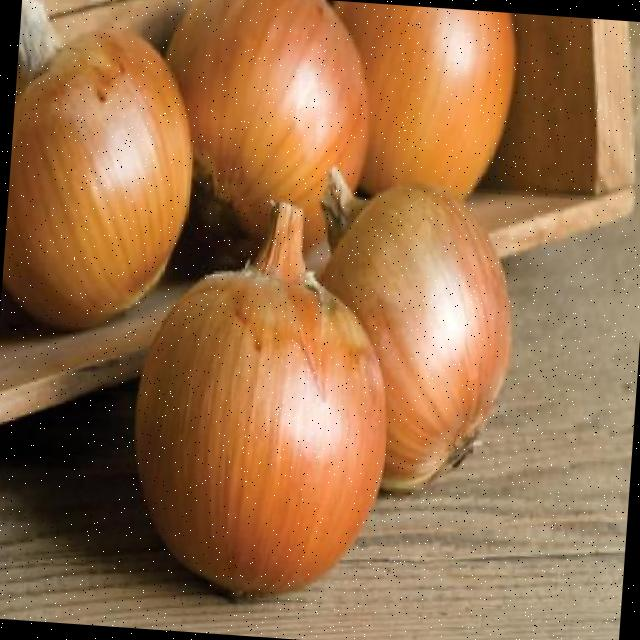Onion: (137, 201, 386, 596), (321, 167, 512, 492), (2, 0, 190, 329), (166, 0, 369, 250), (336, 2, 516, 197)
